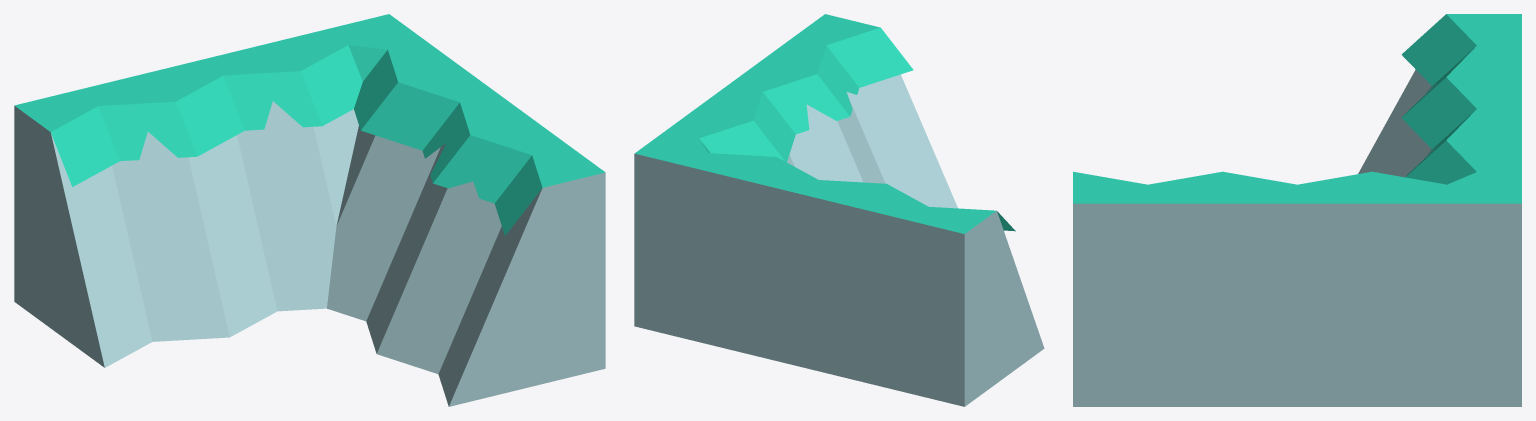
Rendered from cliff_halfCornerInner_stone.fbx.
3 views of the same model, side by side, from view 1: azimuth 30°, elevation 25°; view 2: azimuth 150°, elevation 25°; view 3: azimuth 270°, elevation 25° (orthographic). The views are drawn at different scales.
Parts seen in each view (by area): view 1: cliff_halfCornerInner_stone; view 2: cliff_halfCornerInner_stone; view 3: cliff_halfCornerInner_stone.
Boxes of the visible parts, bbox=[...] form: cliff_halfCornerInner_stone: bbox=[14, 14, 605, 406]; cliff_halfCornerInner_stone: bbox=[634, 14, 1044, 406]; cliff_halfCornerInner_stone: bbox=[1073, 14, 1521, 406].
Bounding box in the file's own units: 10 × 5 × 10.
